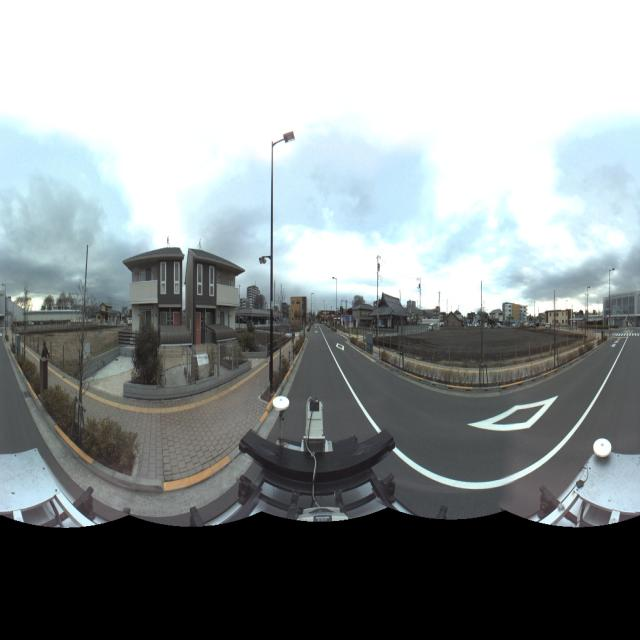b_1: (127, 238, 184, 354), (188, 241, 244, 359), (369, 287, 413, 348), (603, 290, 640, 343), (542, 299, 576, 336), (500, 300, 530, 330)
